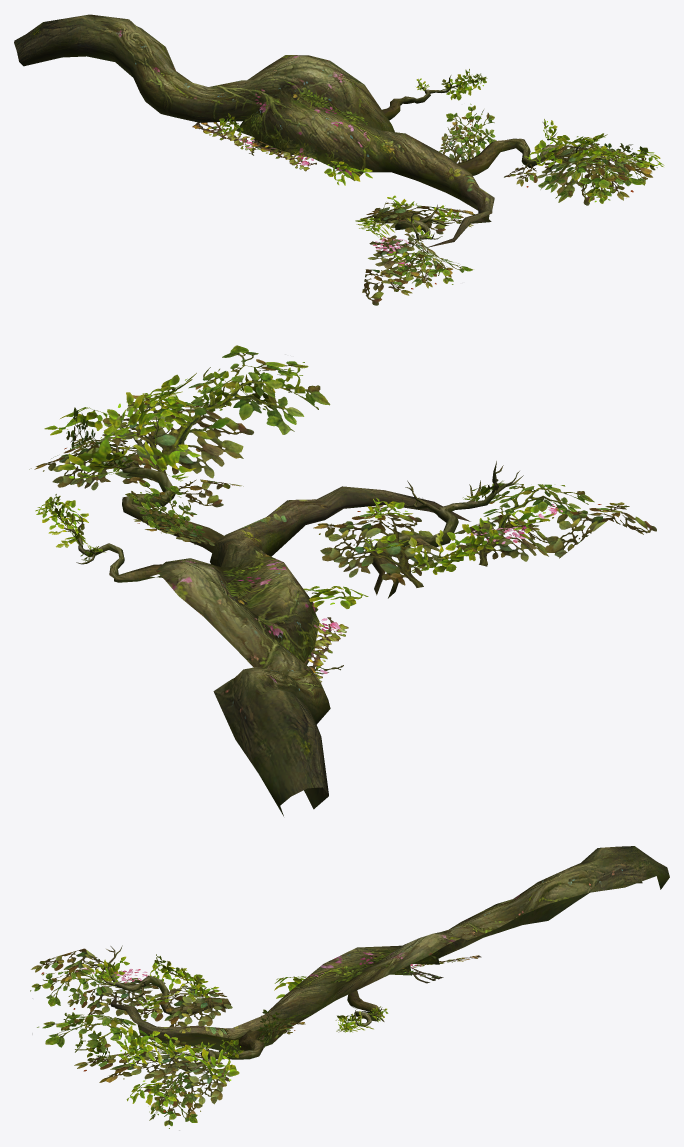
The model's file is S_Tree_Green125_A4.FBX.
3 renders of one model, top to bottom at view 1: azimuth 30°, elevation 25°; view 2: azimuth 150°, elevation 25°; view 3: azimuth 270°, elevation 25°, orthographic. The views are drawn at different scales.
Visible parts, largest first — view 1: S_Tree_Green125_A4_1, S_Tree_Green125_A4_2; view 2: S_Tree_Green125_A4_2, S_Tree_Green125_A4_1; view 3: S_Tree_Green125_A4_1, S_Tree_Green125_A4_2.
Boxes of the visible parts, <box> form: S_Tree_Green125_A4_1: <box>14,14,602,247</box>; S_Tree_Green125_A4_2: <box>192,69,664,305</box>; S_Tree_Green125_A4_2: <box>29,345,656,682</box>; S_Tree_Green125_A4_1: <box>64,416,523,816</box>; S_Tree_Green125_A4_1: <box>83,846,669,1071</box>; S_Tree_Green125_A4_2: <box>30,948,481,1130</box>.
Bounding box in the file's own units: 423 × 109 × 554.
